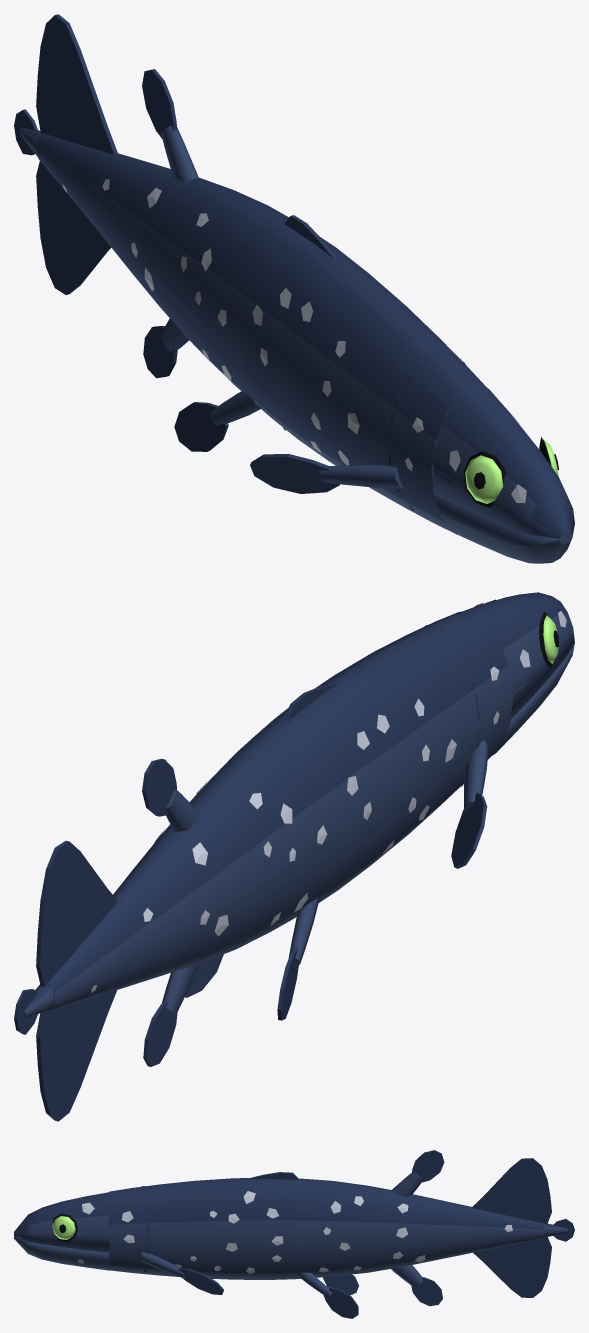
Rendered from legend_coelacanth.fbx.
The picture shows the model from 3 angles, top to bottom: view 1: azimuth 30°, elevation 25°; view 2: azimuth 150°, elevation 25°; view 3: azimuth 270°, elevation 25°; orthographic projection. The views are drawn at different scales.
Parts seen in each view (by area): view 1: geo_Spine.F, geo_Spine.B1, geo_Skull, geo_Head, geo_Tail.Upper, geo_Spine.B2, geo_Tail.Lower, geo_Jaw, geo_Spine.B3, geo_Pec.R.Fan, geo_Pel.R.Fan, geo_Tail (+7 smaller); view 2: geo_Spine.F, geo_Spine.B1, geo_Spine.B2, geo_Head, geo_Tail.Upper, geo_Skull, geo_Spine.B3, geo_Tail.Lower, geo_Tail, geo_Pec.R.Fan, geo_Dorsal2.Fan, geo_Anal.Fan (+8 smaller); view 3: geo_Spine.F, geo_Spine.B1, geo_Spine.B2, geo_Head, geo_Skull, geo_Tail.Upper, geo_Tail.Lower, geo_Spine.B3, geo_Jaw, geo_Tail, geo_Dorsal2.Fan, geo_Pel.L.Fan (+10 smaller).
Part boxes in pixels (left/top/right/bottom): geo_Spine.F: left=240, top=227, right=438, bottom=507; geo_Spine.B1: left=161, top=181, right=288, bottom=416; geo_Skull: left=432, top=385, right=574, bottom=538; geo_Head: left=376, top=334, right=487, bottom=534; geo_Tail.Upper: left=36, top=14, right=117, bottom=154; geo_Spine.B2: left=113, top=161, right=215, bottom=321; geo_Tail.Lower: left=36, top=161, right=111, bottom=294; geo_Jaw: left=433, top=494, right=574, bottom=563; geo_Spine.B3: left=74, top=148, right=149, bottom=259; geo_Pec.R.Fan: left=250, top=454, right=339, bottom=493; geo_Pel.R.Fan: left=174, top=402, right=228, bottom=451; geo_Tail: left=36, top=133, right=89, bottom=207; geo_Spine.F: left=274, top=632, right=469, bottom=902; geo_Spine.B1: left=189, top=717, right=341, bottom=955; geo_Spine.B2: left=125, top=801, right=243, bottom=978; geo_Head: left=407, top=610, right=526, bottom=801; geo_Tail.Upper: left=36, top=840, right=117, bottom=987; geo_Skull: left=463, top=592, right=574, bottom=718; geo_Spine.B3: left=95, top=870, right=170, bottom=995; geo_Tail.Lower: left=36, top=990, right=116, bottom=1121; geo_Tail: left=40, top=929, right=110, bottom=1011; geo_Pec.R.Fan: left=451, top=792, right=487, bottom=868; geo_Dorsal2.Fan: left=142, top=758, right=177, bottom=816; geo_Anal.Fan: left=143, top=1001, right=177, bottom=1066; geo_Spine.F: left=160, top=1178, right=294, bottom=1279; geo_Spine.B1: left=294, top=1178, right=384, bottom=1279; geo_Spine.B2: left=384, top=1188, right=445, bottom=1269; geo_Head: left=108, top=1184, right=159, bottom=1275; geo_Skull: left=14, top=1192, right=109, bottom=1252; geo_Tail.Upper: left=472, top=1158, right=551, bottom=1224; geo_Tail.Lower: left=473, top=1237, right=551, bottom=1297; geo_Spine.B3: left=446, top=1201, right=496, bottom=1257; geo_Jaw: left=14, top=1236, right=109, bottom=1270; geo_Tail: left=496, top=1213, right=543, bottom=1247; geo_Dorsal2.Fan: left=412, top=1150, right=444, bottom=1182; geo_Pel.L.Fan: left=323, top=1287, right=358, bottom=1318.
Size of the model in its own units: 0.2378 by 0.3089 by 1.
